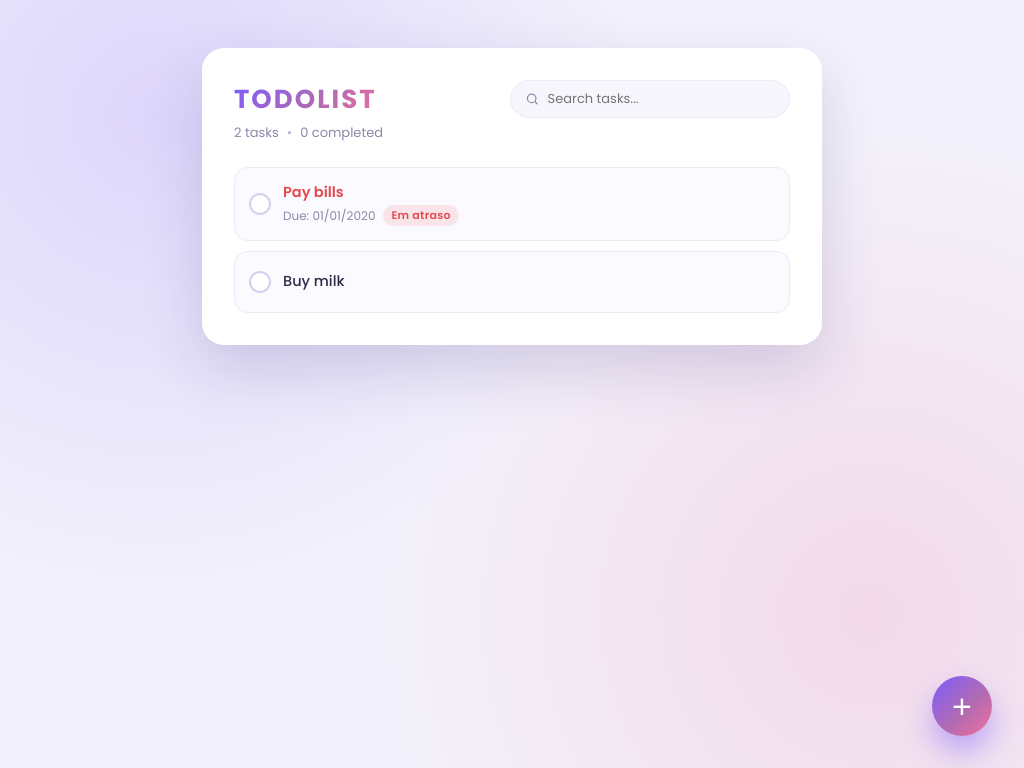
Test: TODOLIST frontend › faz busca em tempo real com debounce
This screenshot has width=1024, height=768.
Expected: the text "Buy milk" is shown, [283,270,344,292]
Step 1. Type "milk" into the search field labelled "Search tasks" → x=661, y=99, box [548,89,775,109]
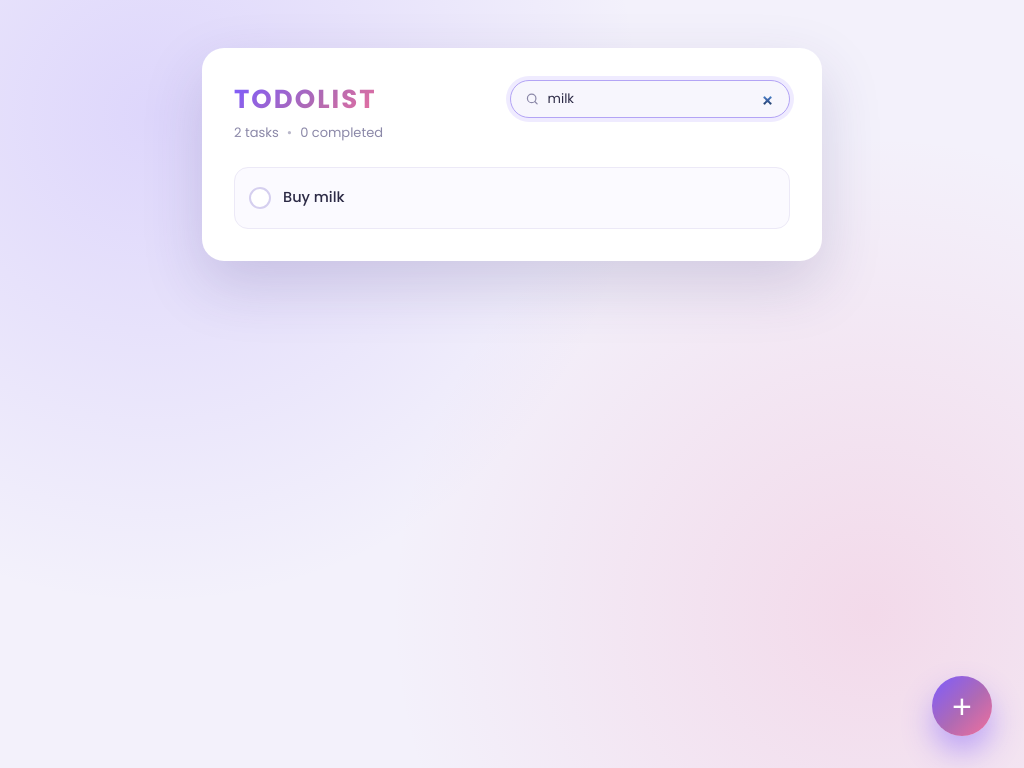
Expected: the text "Buy milk" is shown, [283,186,344,208]
Now the text "Pay bills" is gone
